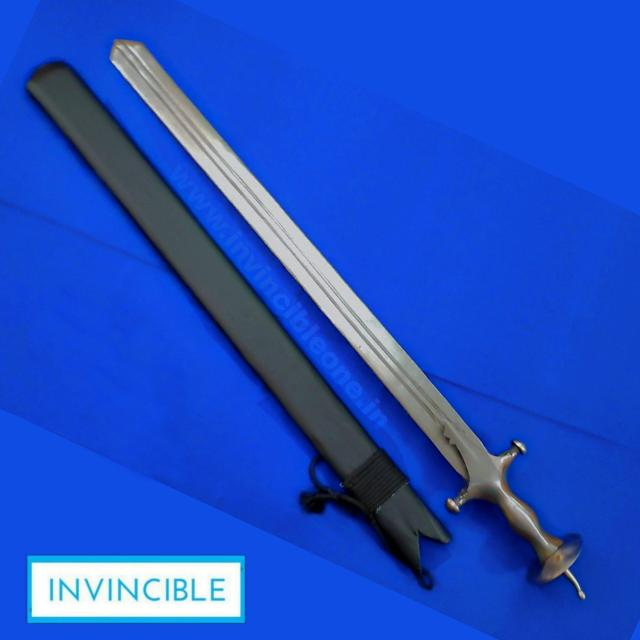weapon: (108, 36, 592, 602)
